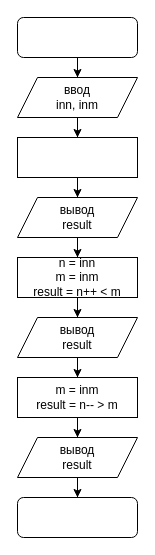
The diagram is 155 pixels wide and 555 high, and some of its shapes have lost their labels. Here are the shapes that lost their labels. From the top down, the centre of each, then its label:
At [77,37]: "начало".
At [77,157]: "n = inn m = inm result = n++ * m".
At [77,517]: "конец".
